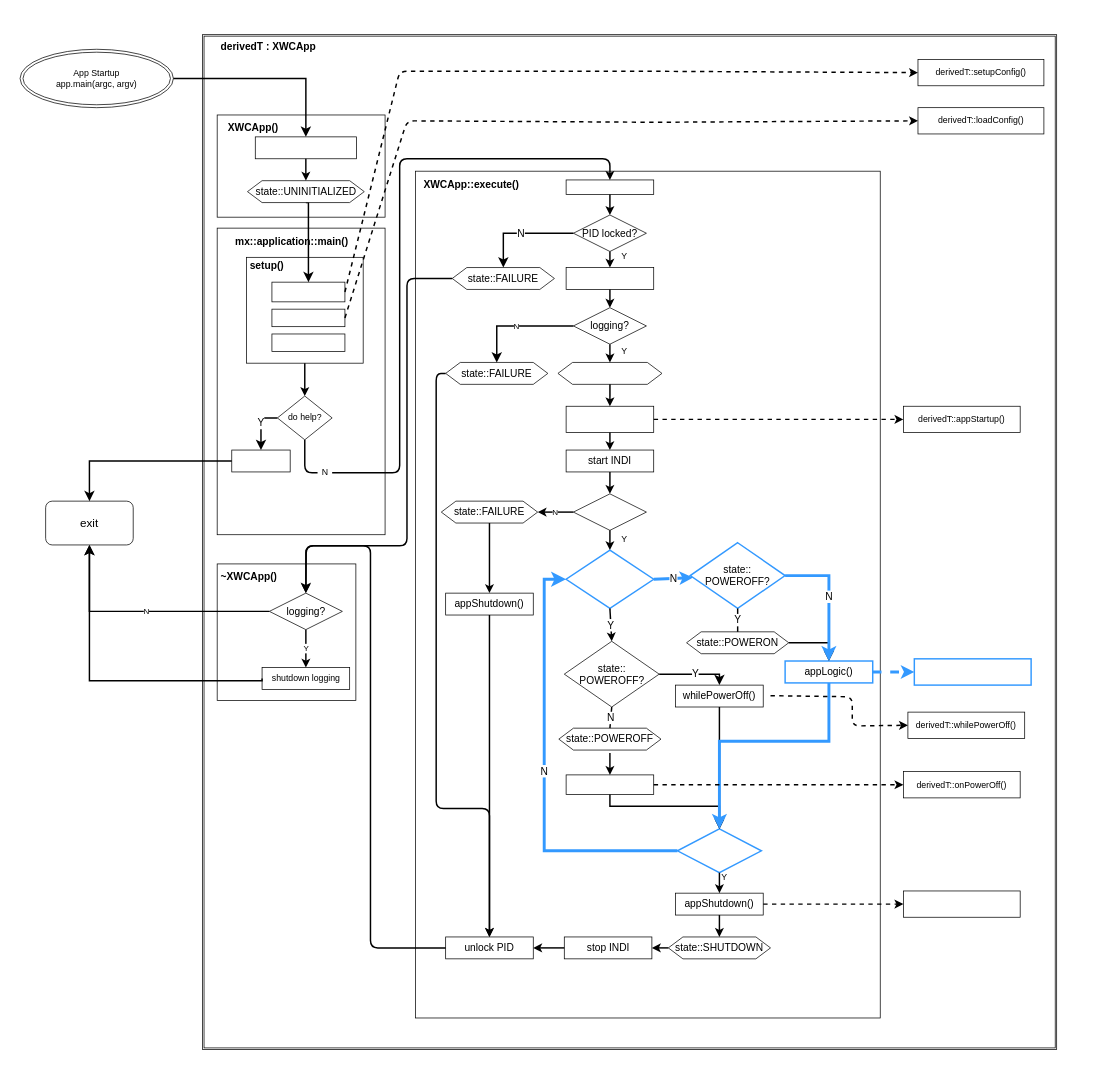
Image size: 1113x1083. Some labels were removed from this diagram. The centre of each missing label's shape, as x and y in pixels:
appStartup(): the point at 609,419
checkConfig(): the point at 308,342
derivedT::appLogic(): the point at 972,671
derivedT::appShutdown(): the point at 961,903
INDI up?: the point at 609,511
loadConfig(): the point at 308,317
lock PID: the point at 609,187
onPowerOff(): the point at 609,784
power off?: the point at 609,579
record GIT state: the point at 305,147
setupConfig(): the point at 308,291
show help: the point at 260,460
shutdown?: the point at 719,850
start logging: the point at 609,278
state::INITIALIZED: the point at 609,373
